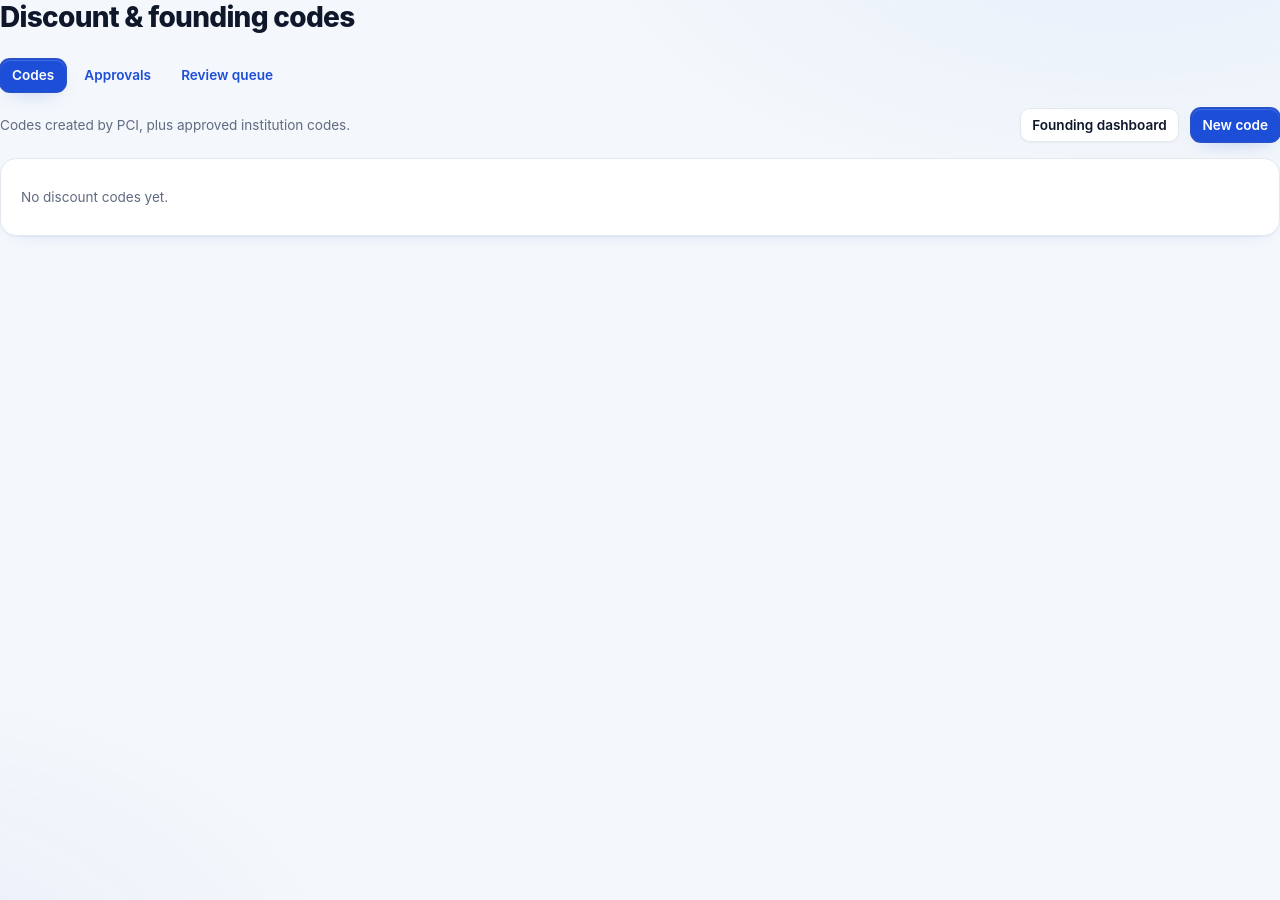
Scenario: Codes admin console › create code form › a founding-kind code needs only a code (the discount value is waived)
Click the button "New code" at (1235, 125), box [1190,108,1279,142]
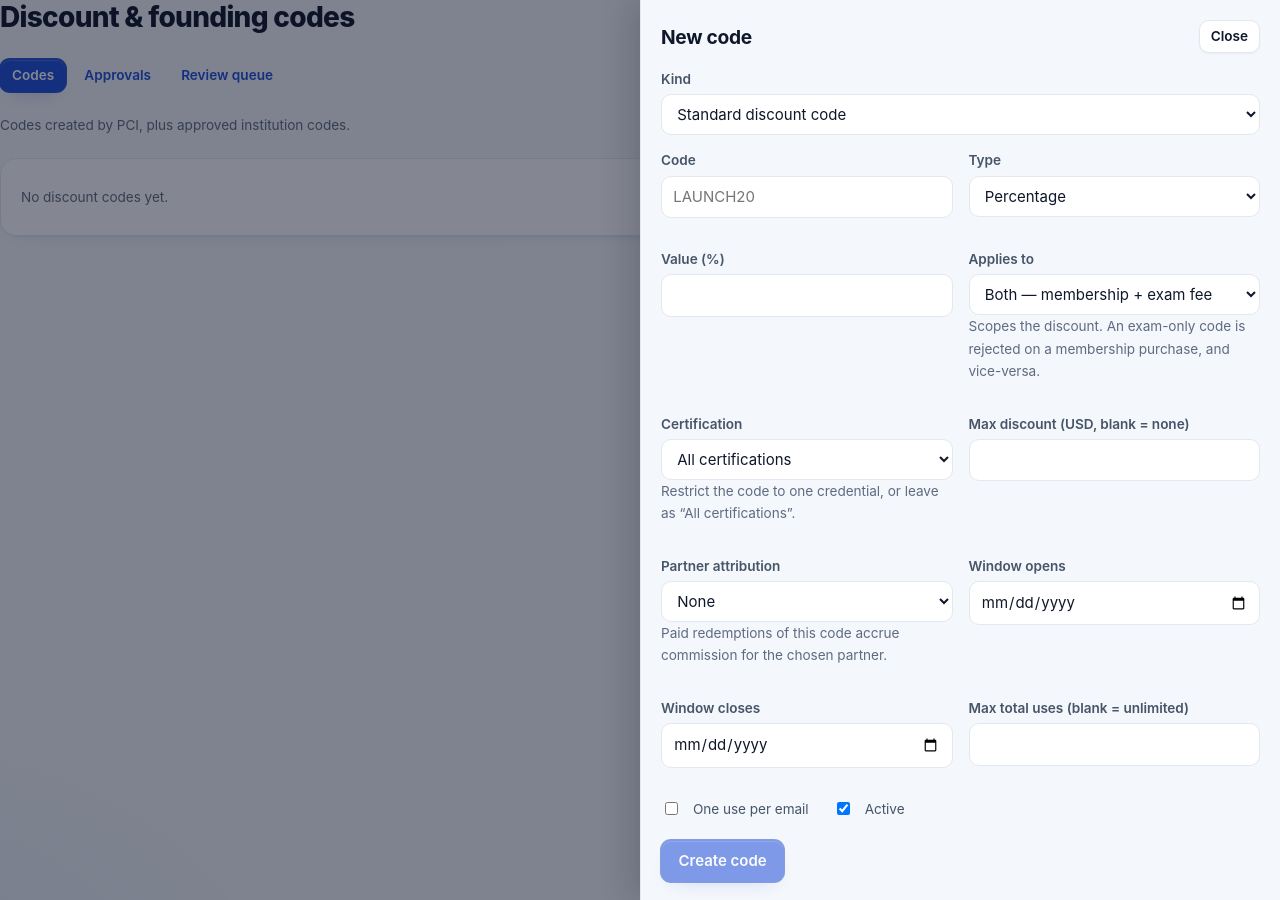
Select "Founding code — waives membership, study and exam fees (time-boxed)" in the dropdown below "Kind" at (960, 115), box [661,94,1260,135]
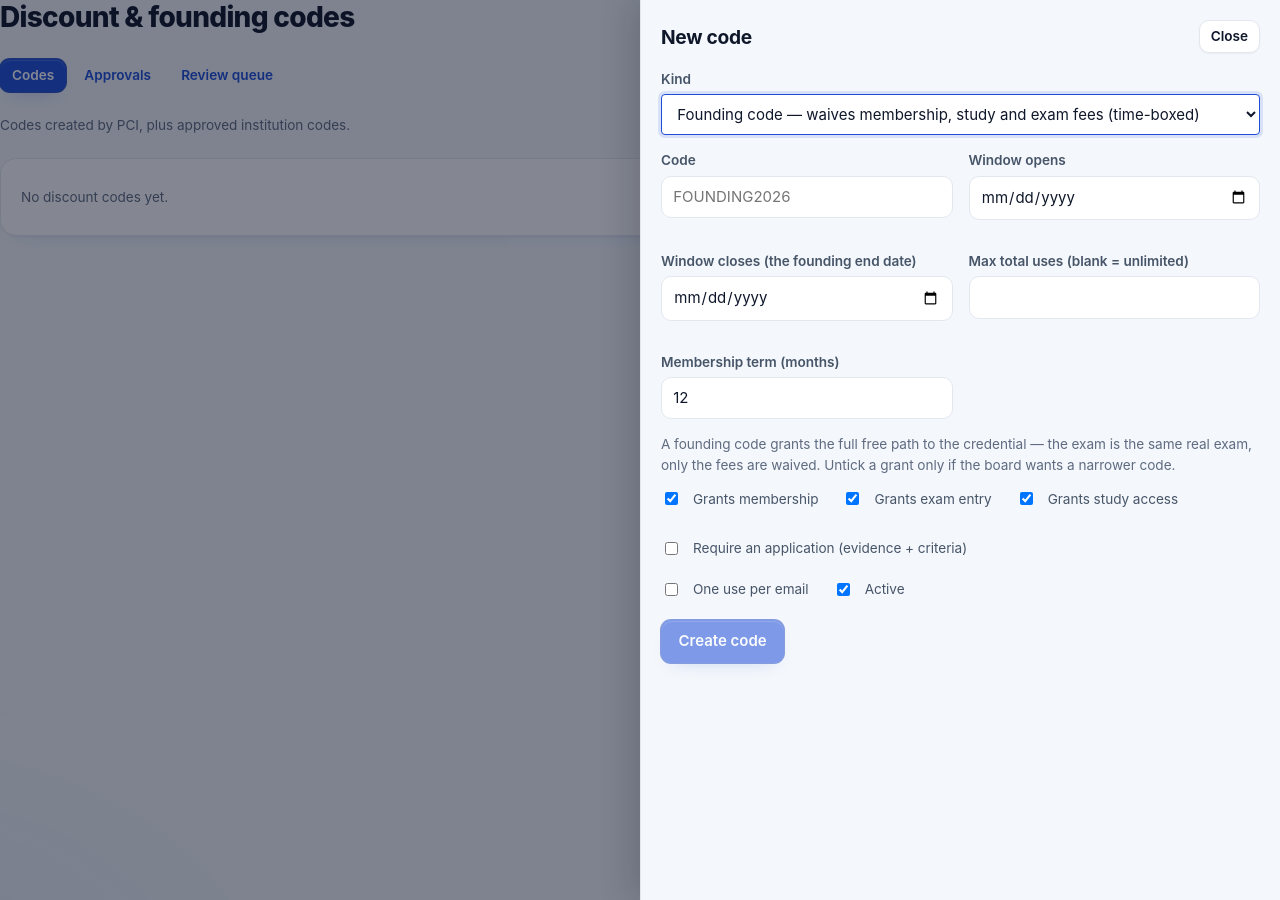
Now the text "Value" is gone
Type "gold2026" into the field with placeholder "FOUNDING2026" at (807, 197), box [661,176,952,218]
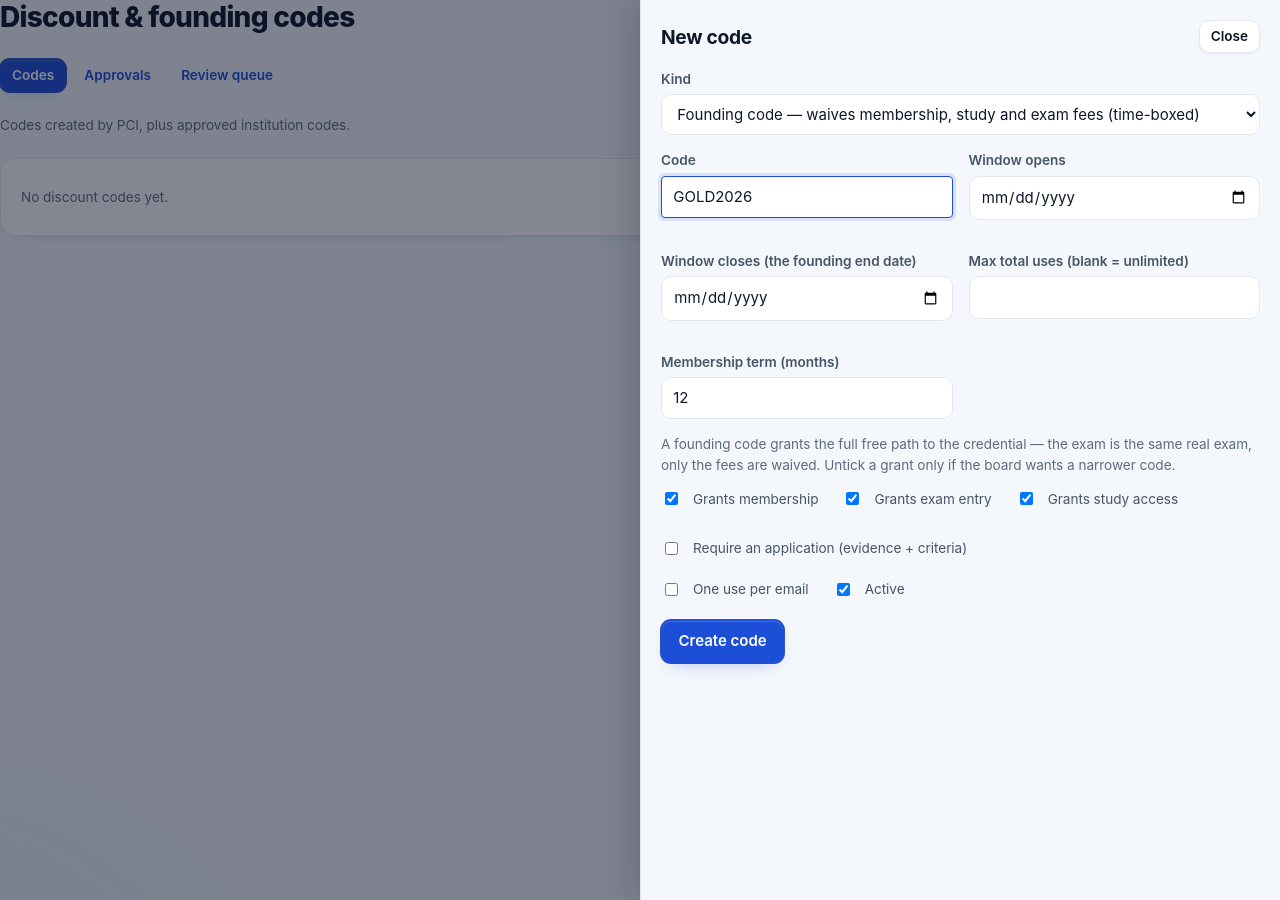
Now the button "Create code" is enabled, box [661,620,784,663]
